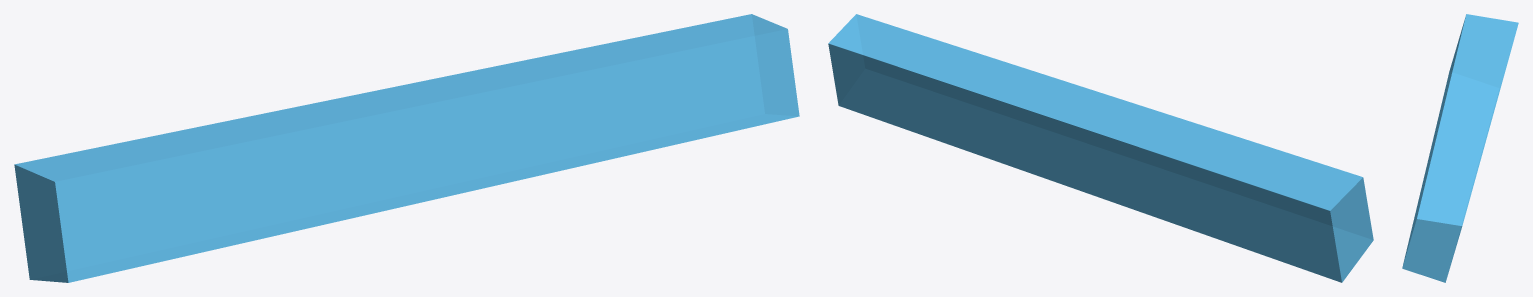
Rendered from Event_421364160_HErechit_14.fbx.
The picture shows the model from 3 angles, left to right: view 1: azimuth 30°, elevation 25°; view 2: azimuth 150°, elevation 25°; view 3: azimuth 270°, elevation 25°; orthographic projection. The views are drawn at different scales.
Visible parts, largest first — view 1: Model; view 2: Model; view 3: Model.
Boxes of the visible parts, x1=… form: Model: x1=14, y1=14, x2=799, y2=282; Model: x1=828, y1=14, x2=1373, y2=282; Model: x1=1402, y1=14, x2=1518, y2=282.
Bounding box in the file's own units: 1.57 × 0.2814 × 0.3638.
